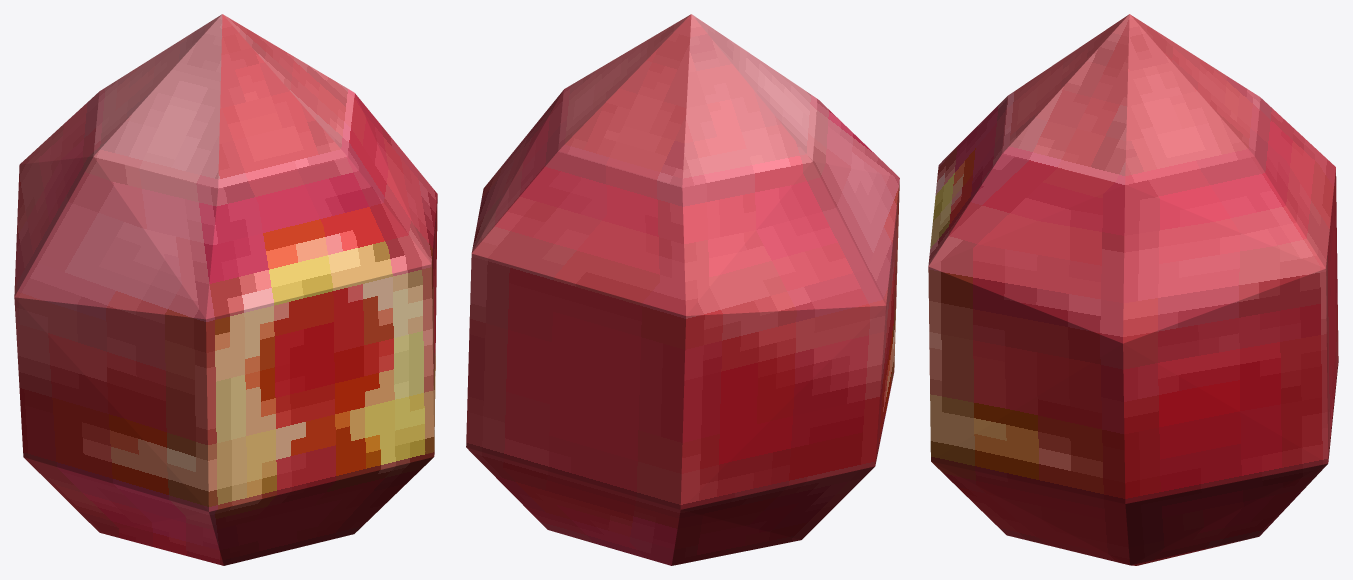
The model's file is Red Orb.obj.
3 renders of one model, left to right at view 1: azimuth 30°, elevation 25°; view 2: azimuth 150°, elevation 25°; view 3: azimuth 270°, elevation 25°, orthographic.
Visible parts, largest first — view 1: Red_Orb; view 2: Red_Orb; view 3: Red_Orb.
Part boxes in pixels (x1,y1,x2,y2): Red_Orb: (14, 14, 437, 565); Red_Orb: (466, 14, 899, 565); Red_Orb: (928, 14, 1338, 565).
Bounding box in the file's own units: 0.2175 × 0.2769 × 0.1885.
Materials: 1 (1 with a texture image).
